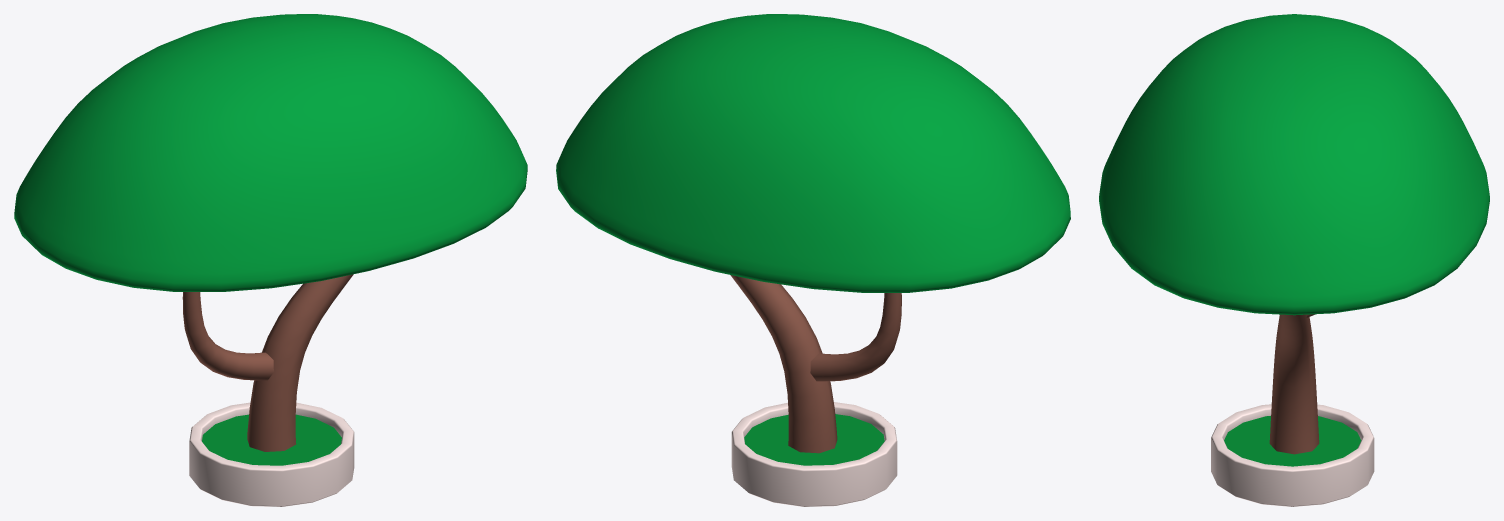
The model's file is Town_9_Tree_1.glb.
3 views of the same model, side by side, from view 1: azimuth 30°, elevation 25°; view 2: azimuth 150°, elevation 25°; view 3: azimuth 270°, elevation 25° (orthographic). The views are drawn at different scales.
Visible parts, largest first — view 1: Town_9_Tree_1; view 2: Town_9_Tree_1; view 3: Town_9_Tree_1.
Boxes of the visible parts, x1,y1,x2,y2 form: Town_9_Tree_1: (14,14,527,506); Town_9_Tree_1: (556,14,1070,506); Town_9_Tree_1: (1099,14,1489,506).
Size of the model in its own units: 8.12 by 7.23 by 6.03.
1 material, 1 textured.
